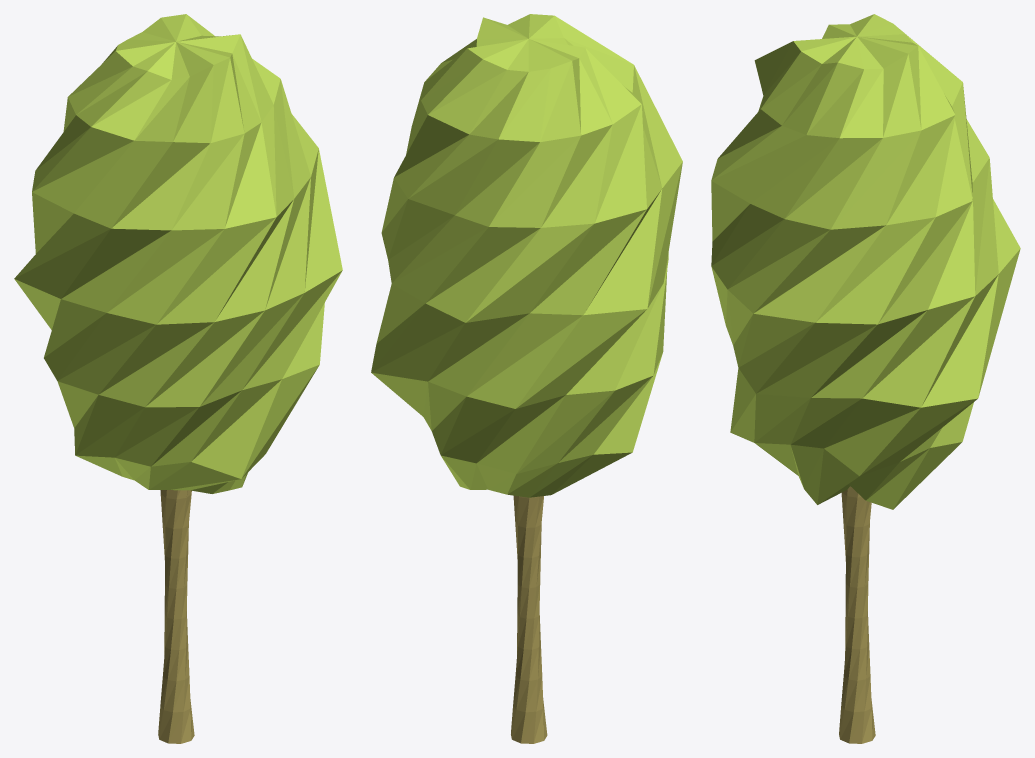
File: Tree.fbx
3 renders of one model, left to right at view 1: azimuth 30°, elevation 25°; view 2: azimuth 150°, elevation 25°; view 3: azimuth 270°, elevation 25°, orthographic.
Parts seen in each view (by area): view 1: Sphere, Cylinder; view 2: Sphere, Cylinder; view 3: Sphere, Cylinder.
Boxes of the visible parts, box(x1,y1,x2,y2) form: Sphere: box(14, 14, 342, 493); Cylinder: box(158, 490, 194, 743); Sphere: box(371, 14, 682, 497); Cylinder: box(511, 495, 547, 743); Sphere: box(711, 14, 1020, 509); Cylinder: box(839, 486, 875, 743).
Size of the model in its own units: 211 by 508 by 203.
